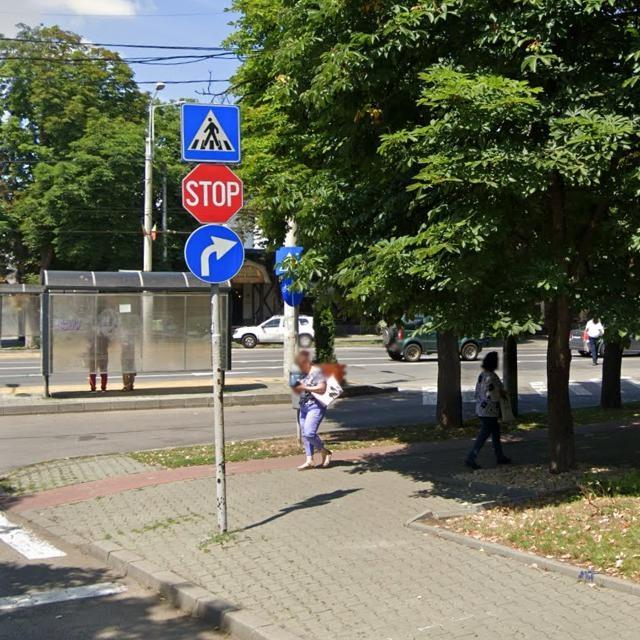info_crosswalk: (176, 102, 244, 163)
prio_stop: (176, 161, 242, 225)
